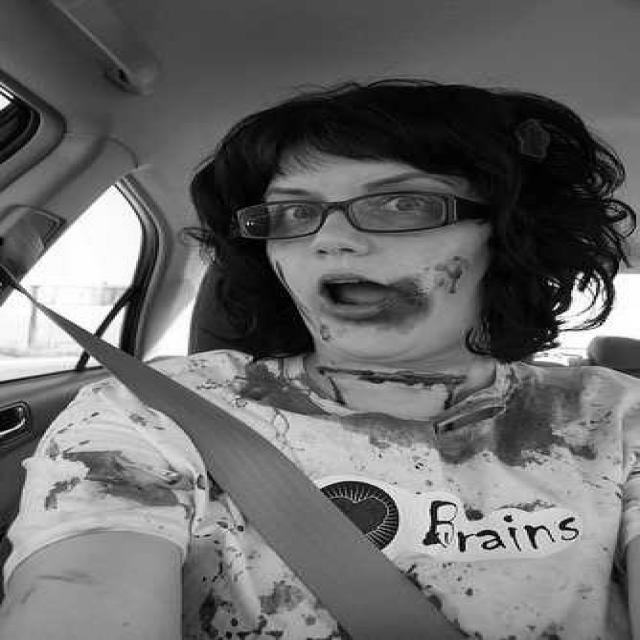Seatbelt: (49, 311, 477, 640)
